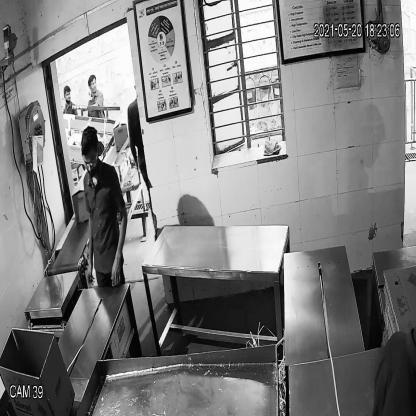goggles: (82, 154, 99, 170)
